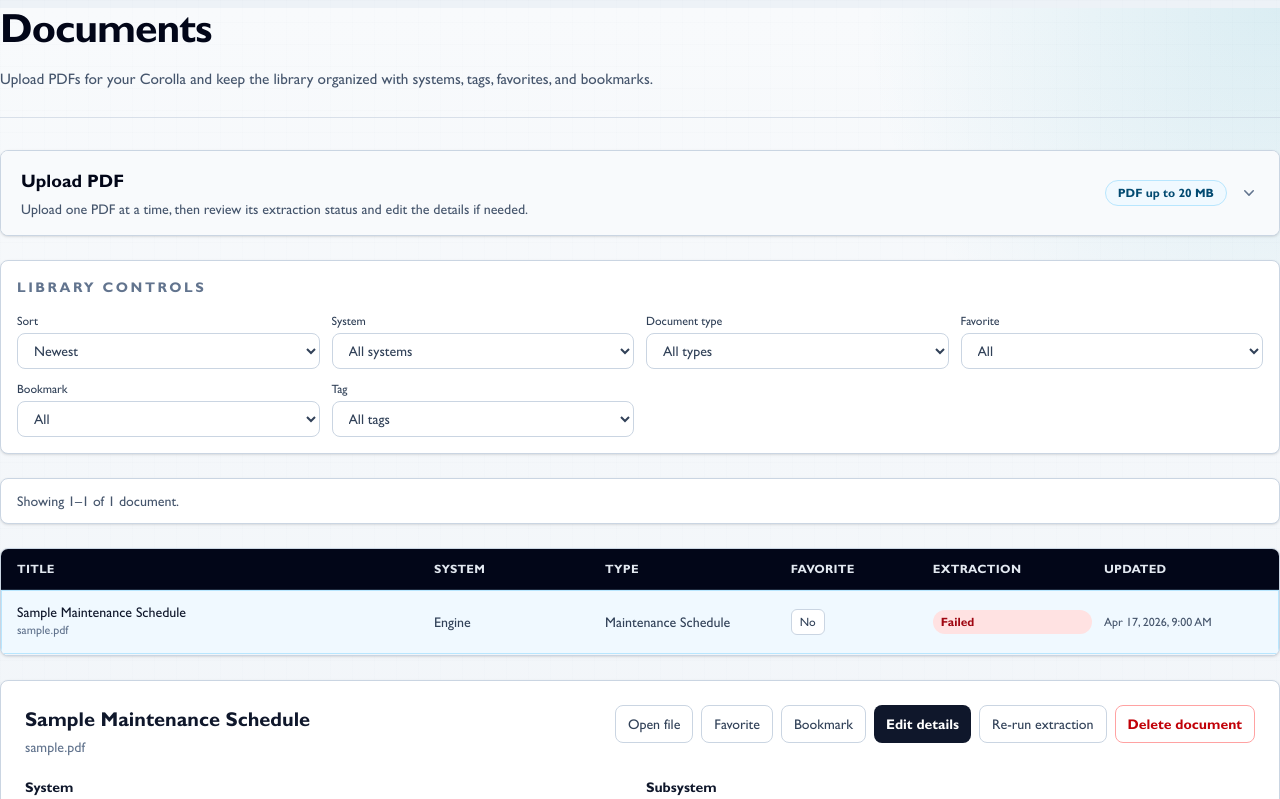
Test: DocumentsPage allows re-running extraction from document details
Click the button "Re-run extraction" at (1043, 724), box [979,705,1107,743]
(page scrolled)
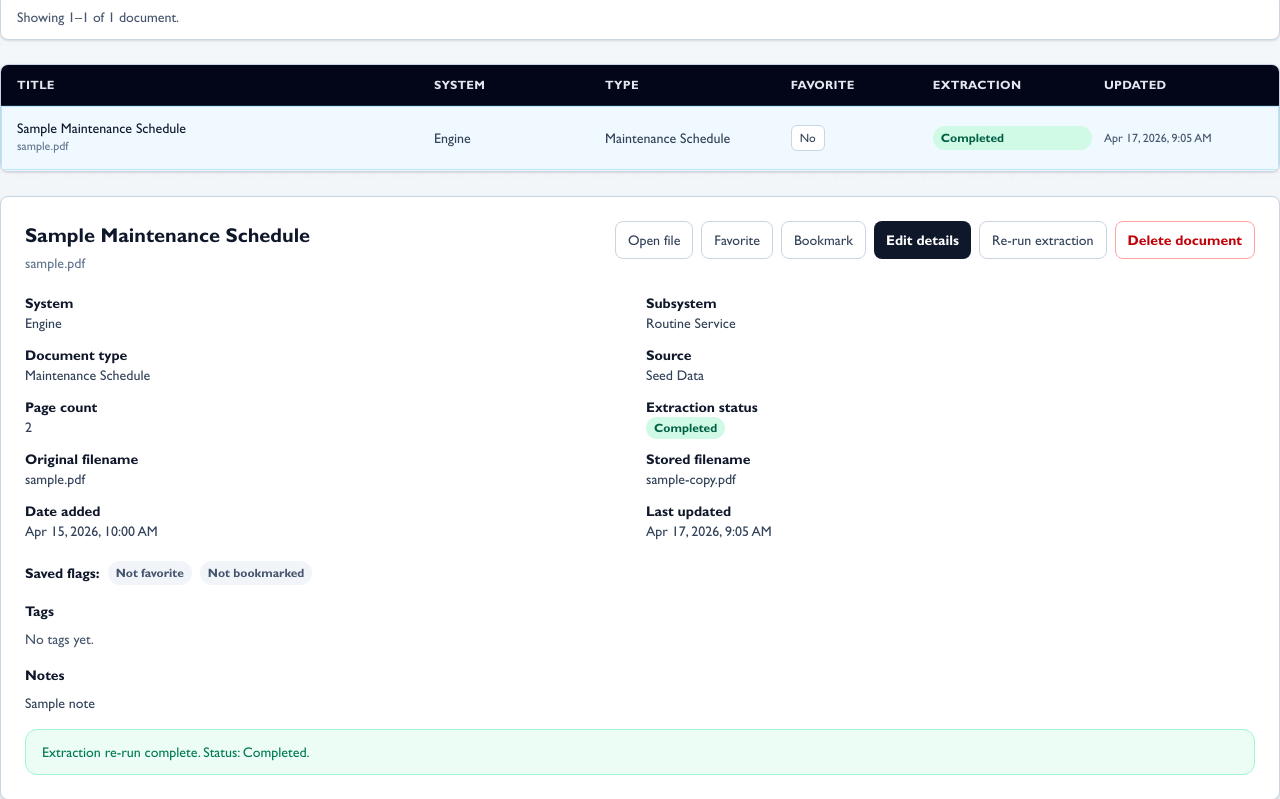
expect the text "Extraction re-run complete. Status: Completed." is shown: met, box [25,729,1255,775]
